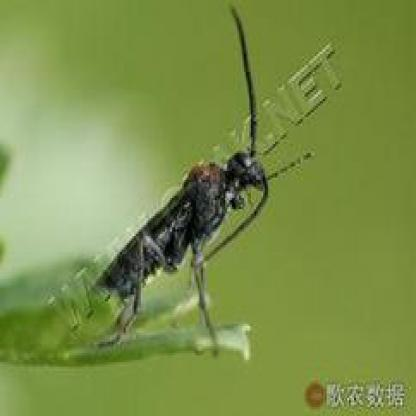sawfly: (64, 0, 316, 363)
